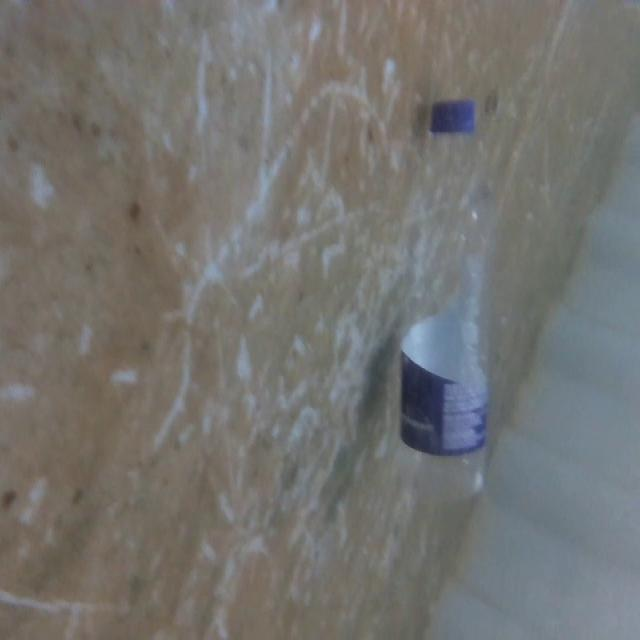plastic bottle: (388, 92, 503, 512)
